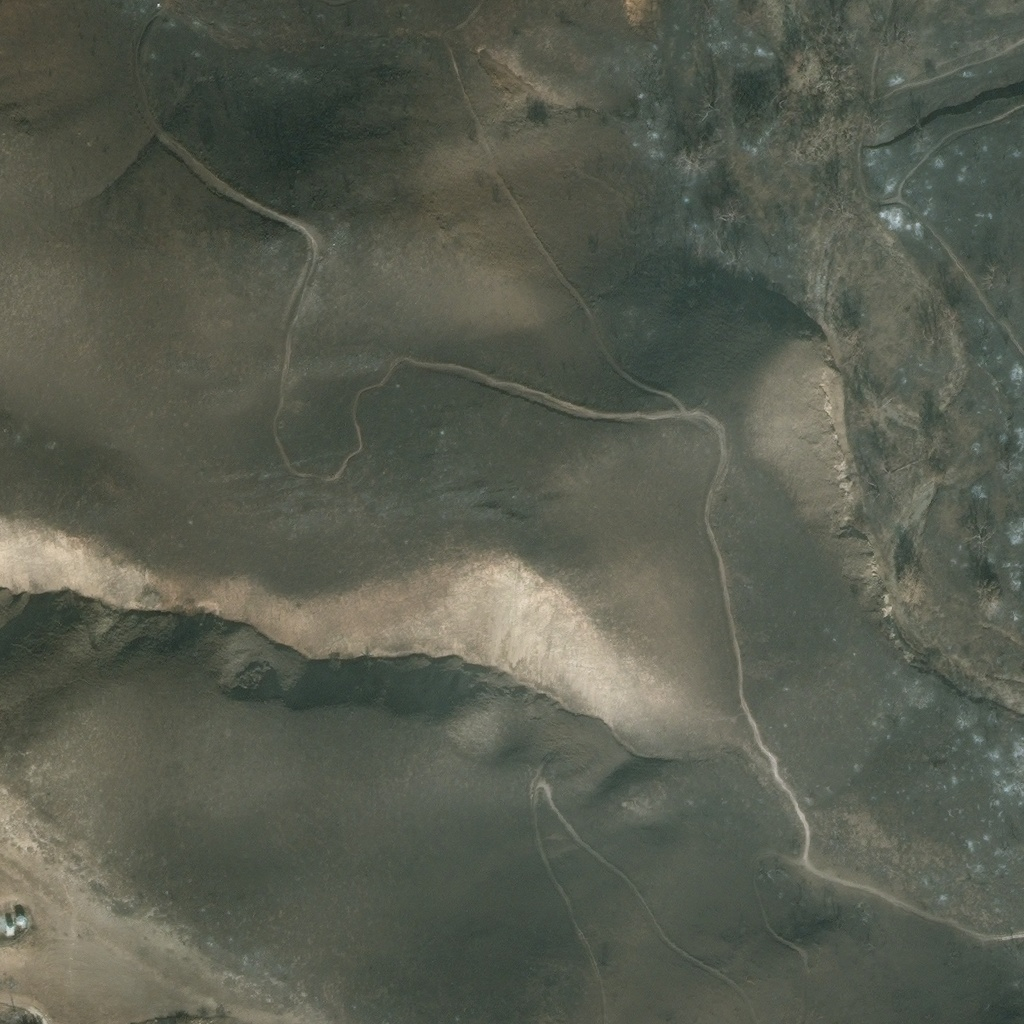0 no-damage: (14, 914, 25, 929), (3, 924, 13, 936)
